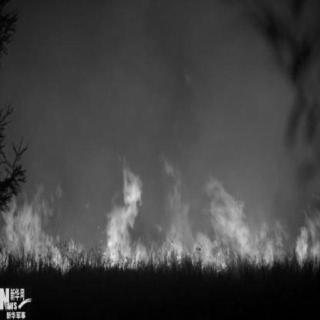Fire: (3, 142, 320, 274)
